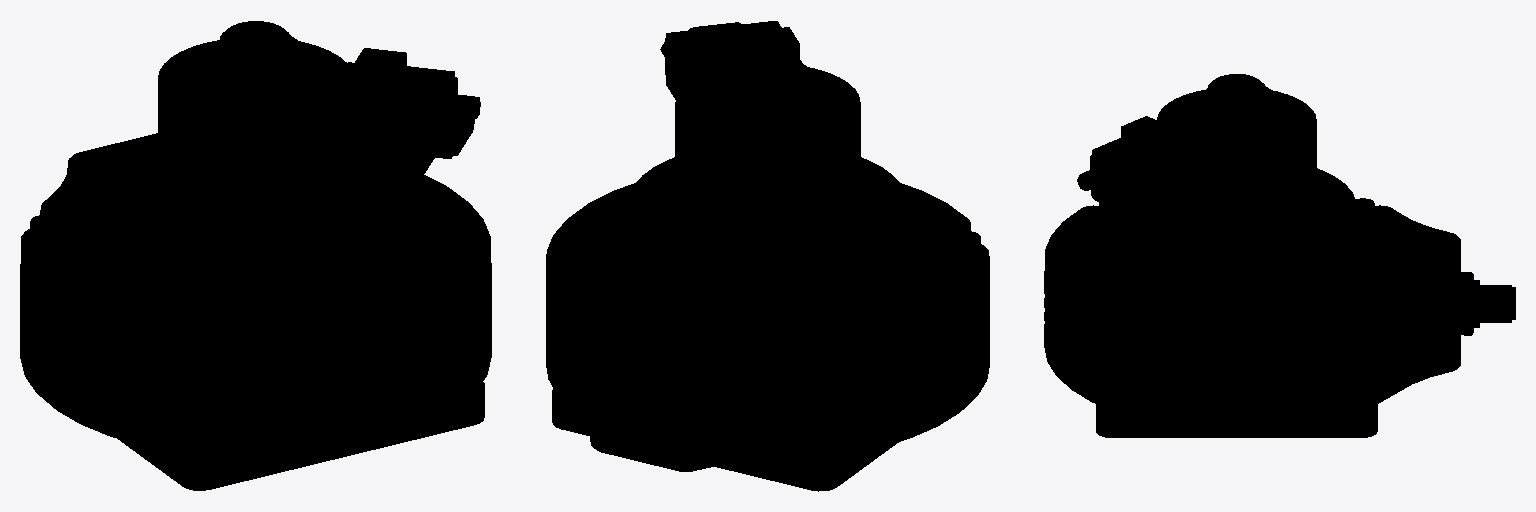
robot.urdf — robotiq_ft150_stack_description:
<robot
  name="robotiq_ft150_stack_description">
  <link
    name="stack">
    <inertial>
      <origin
        xyz="0.000446897624380717 0.000886416907557358 0.0322238748986599"
        rpy="0 0 0" />
      <mass
        value="0.733422847628387" />
      <inertia
        ixx="0.000992352067246208"
        ixy="-9.87352425483295E-06"
        ixz="1.82028313918534E-05"
        iyy="0.000925262583942549"
        iyz="-2.39728911500565E-05"
        izz="0.00113130103496341" />
    </inertial>
    <visual>
      <origin
        xyz="0 0 0"
        rpy="0 0 0" />
      <geometry>
        <mesh
          filename="package://robotiq_ft150_stack_description/meshes/stack_link.STL" />
      </geometry>
      <material
        name="">
        <color
          rgba="0 0 0 1" />
      </material>
    </visual>
    <collision>
      <origin
        xyz="0 0 0"
        rpy="0 0 0" />
      <geometry>
        <mesh
          filename="package://robotiq_ft150_stack_description/meshes/stack_link.STL" />
      </geometry>
    </collision>
  </link>
  <link
    name="tool_changer" />
  <joint
    name="stack"
    type="fixed">
    <origin
      xyz="0 0 0.0918281250000001"
      rpy="-2.79734410692062E-17 4.57380650403684E-16 -2.35619376092503" />
    <parent
      link="stack" />
    <child
      link="tool_changer" />
    <axis
      xyz="0 0 0" />
  </joint>
</robot>

--- Render facts (derived) ---
3 views of the same robot in one strip: view 1: azimuth 30°, elevation 25°; view 2: azimuth 150°, elevation 25°; view 3: azimuth 270°, elevation 25° (orthographic).
Robot: robotiq_ft150_stack_description — 2 links, 1 joints (1 fixed); root link stack; default pose: all joints at 0.
Links seen in each view (by area): view 1: stack; view 2: stack; view 3: stack.
Link boxes in pixels (<box>): stack: <box>20,21,491,490</box>; stack: <box>546,21,989,491</box>; stack: <box>1044,74,1515,437</box>.
Bounding box of the posed robot: 0.12 × 0.147 × 0.1055 m (x, y, z).
1 mesh visuals loaded from 1 distinct referenced files (1 binary STL).
